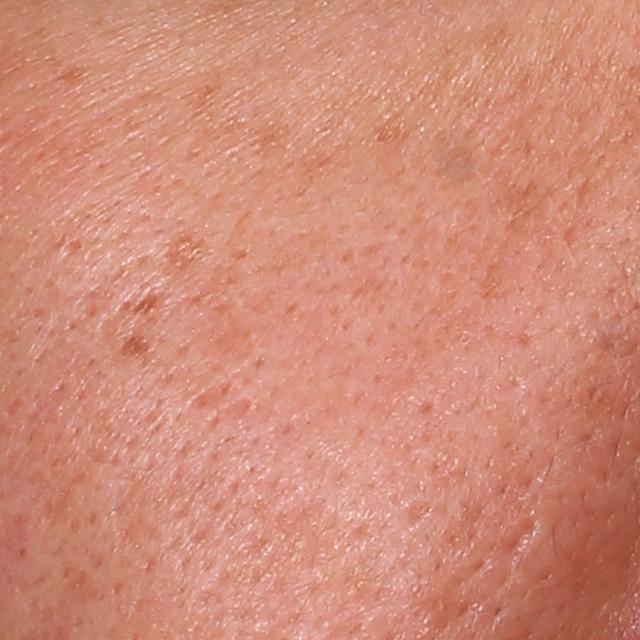atrophic_scar: (500, 513, 542, 555), (402, 496, 434, 529)
melasma: (122, 330, 157, 359)
